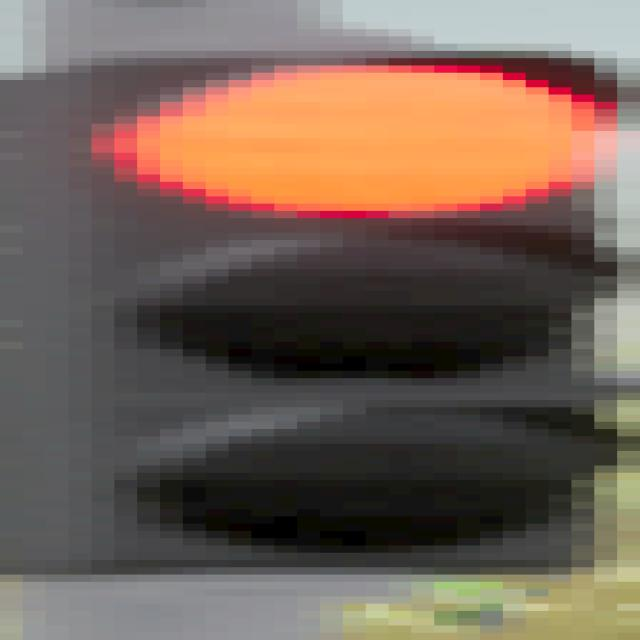red_light: (17, 39, 628, 578)
